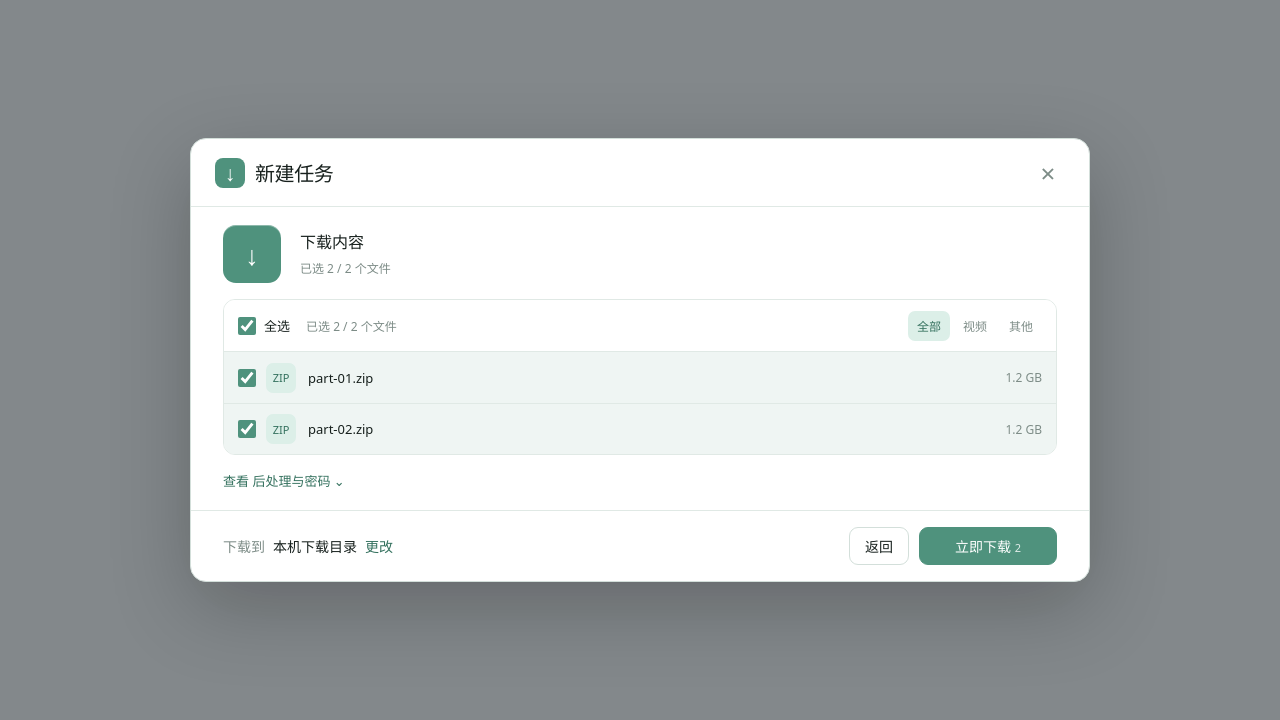
Test: keeps discovered password masked until the user reveals it
The width and height of the screenshot is (1280, 720).
Expected: the text "pass-123" is not shown
Click the button "查看 后处理与密码 ⌄".
click(284, 480)  # box [223,467,345,494]
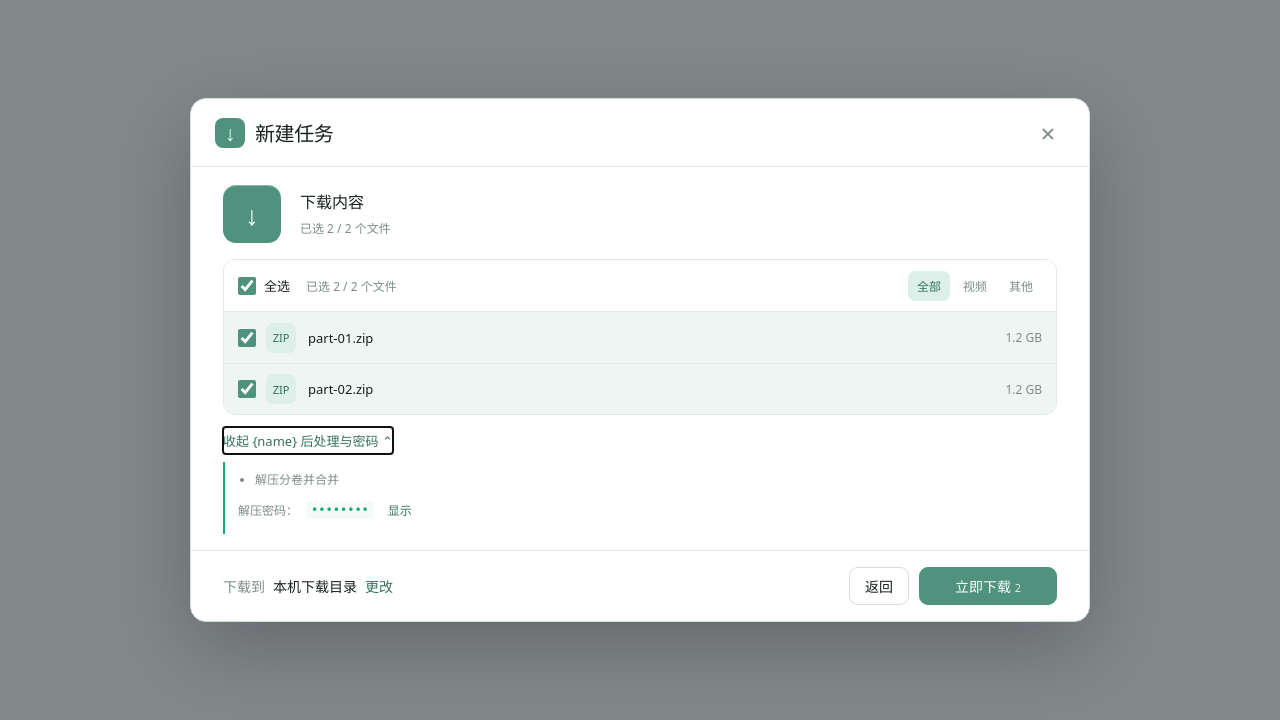
Expected: the text "pass-123" is not shown
Click the button "显示".
click(400, 510)  # box [382,500,418,520]
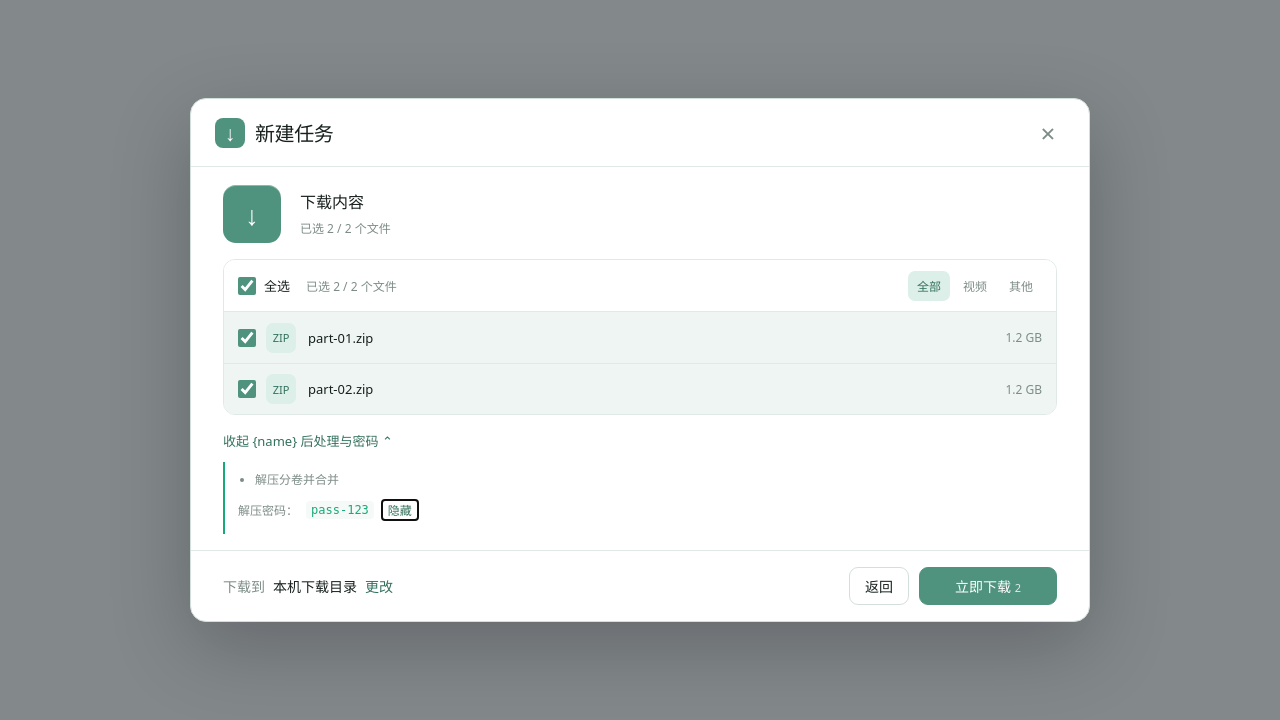
Result: the text "pass-123" is shown at [306,501,374,519]
